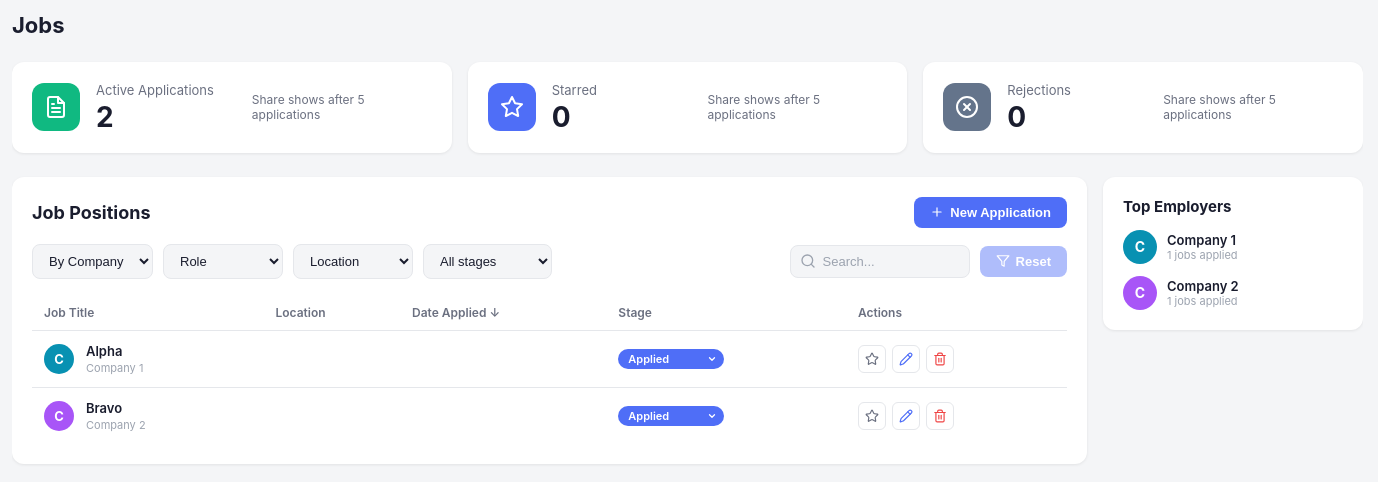
Test: Jobs quick status change › rolls back only the status and shows a toast on failure
The width and height of the screenshot is (1378, 482).
Select "Rejected" in the dropdown named "Change status" in the row of "Alpha" at (671, 359), box top-left (618, 349), bottom-right (724, 369)
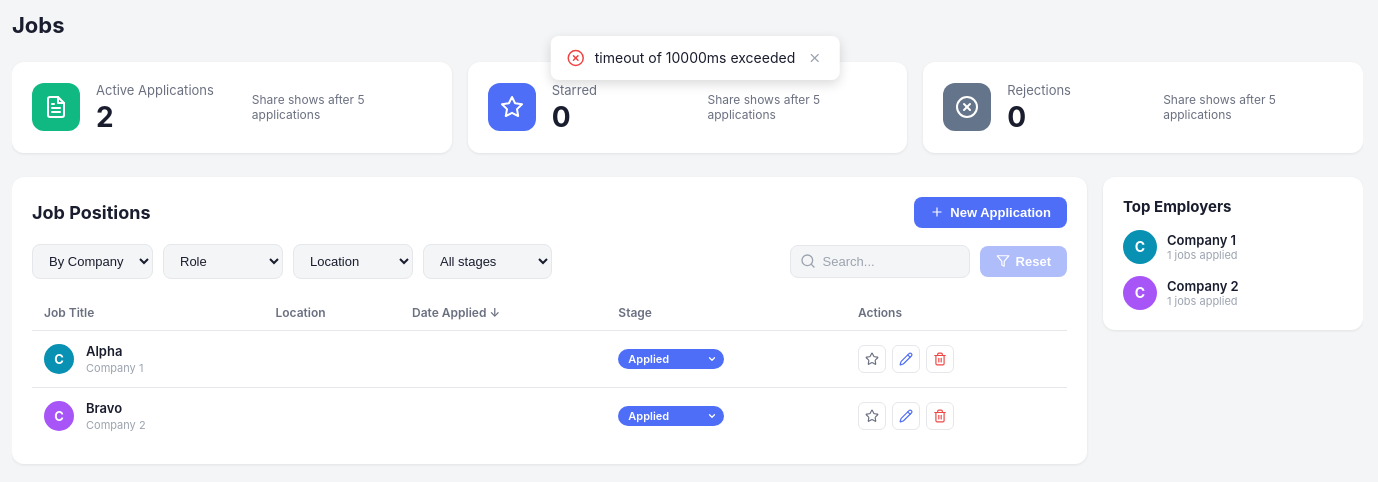
Check: the text "timeout of 10000ms exceeded" is shown, box top-left (595, 48), bottom-right (795, 68)
